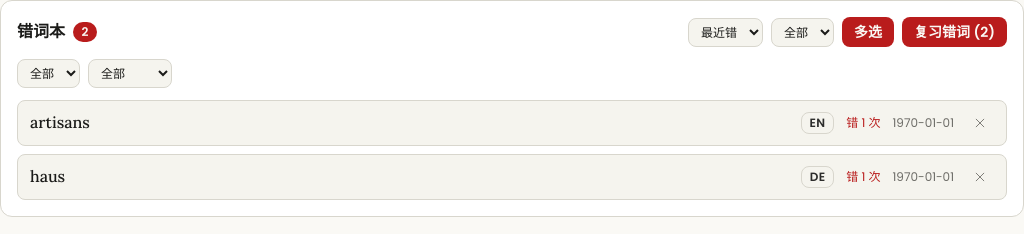
Test: WrongWordsSection 单条删除 (v1.4.0 S3a) › T01 [C3.1] 点删除按钮 → 该行消失 + 总数 -1 + store 移除
Check: the number of list items with test id "wrong-word-item" is 2, box left=17, top=100, right=1007, bottom=146; left=17, top=154, right=1007, bottom=200
Step 1. Click the 1st button with test id "wrong-word-remove" → click(980, 123), box left=966, top=109, right=994, bottom=137
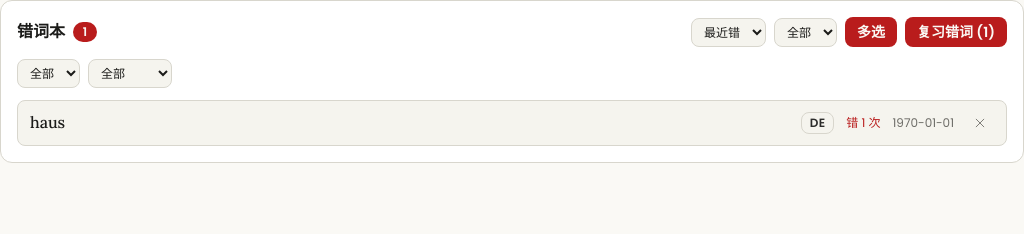
Check: the text "haus" is shown, box left=30, top=112, right=65, bottom=132
Check: the number of list items with test id "wrong-word-item" is 1, box left=17, top=100, right=1007, bottom=146
Check: the text with test id "wrong-words-count" reads "1", box left=83, top=23, right=87, bottom=40
